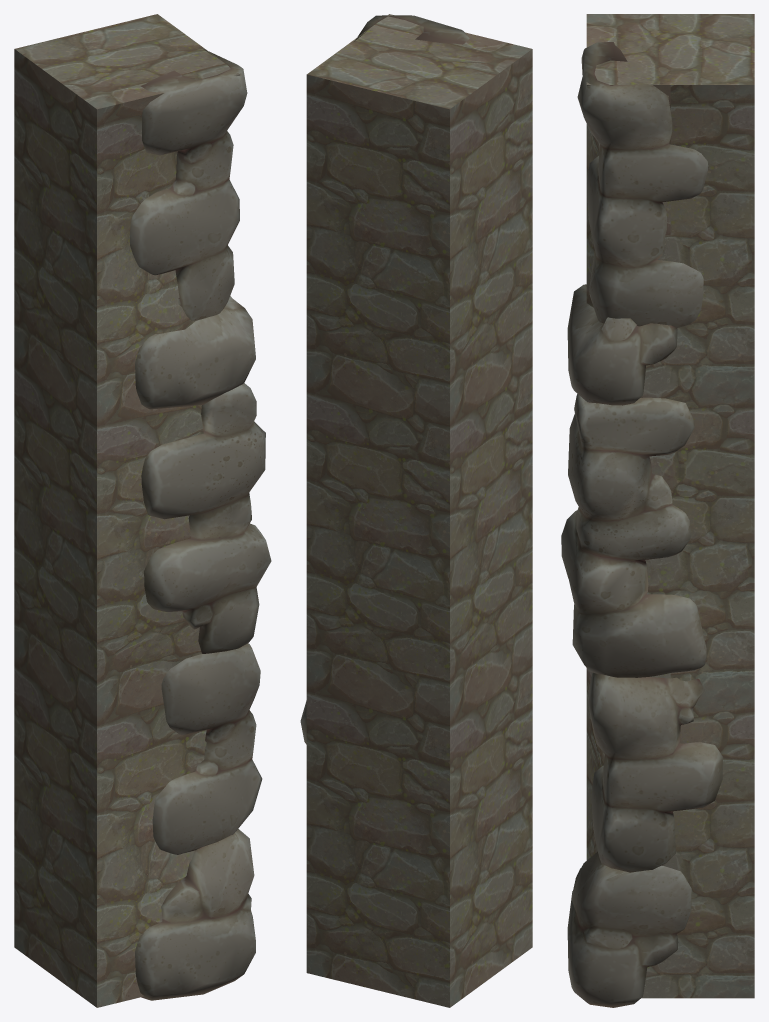
File: SM_FW01_Ruins_Wall_Corner_Mid_01.fbx
3 views of the same model, side by side, from view 1: azimuth 30°, elevation 25°; view 2: azimuth 150°, elevation 25°; view 3: azimuth 270°, elevation 25° (orthographic).
Visible parts, largest first — view 1: SM_FW01_Ruins_Wall_Corner_Mid_01, SM_FW01_Ruins_Wall_Corner_Mid_01_LOD0; view 2: SM_FW01_Ruins_Wall_Corner_Mid_01, SM_FW01_Ruins_Wall_Corner_Mid_01_LOD0; view 3: SM_FW01_Ruins_Wall_Corner_Mid_01_LOD0, SM_FW01_Ruins_Wall_Corner_Mid_01.
Boxes of the visible parts, <box> form: SM_FW01_Ruins_Wall_Corner_Mid_01: <box>14,14,239,1007</box>; SM_FW01_Ruins_Wall_Corner_Mid_01_LOD0: <box>129,48,271,1000</box>; SM_FW01_Ruins_Wall_Corner_Mid_01: <box>306,14,532,1007</box>; SM_FW01_Ruins_Wall_Corner_Mid_01_LOD0: <box>300,15,469,744</box>; SM_FW01_Ruins_Wall_Corner_Mid_01_LOD0: <box>561,42,723,1007</box>; SM_FW01_Ruins_Wall_Corner_Mid_01: <box>586,14,754,998</box>.
Size of what is drawn, in the model's own units: 1.24 by 6.1 by 1.15.
